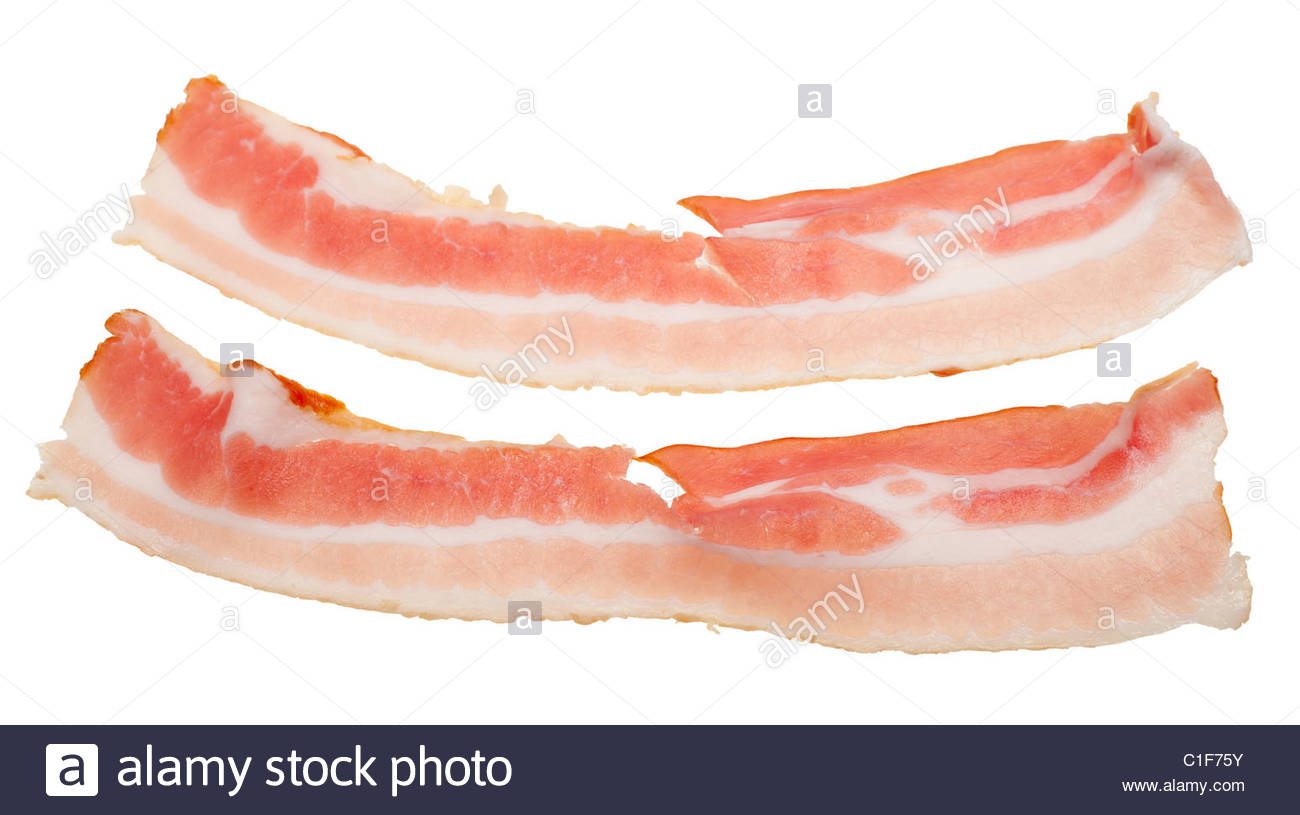bacon: (23, 339, 1256, 655), (79, 66, 1229, 402)
